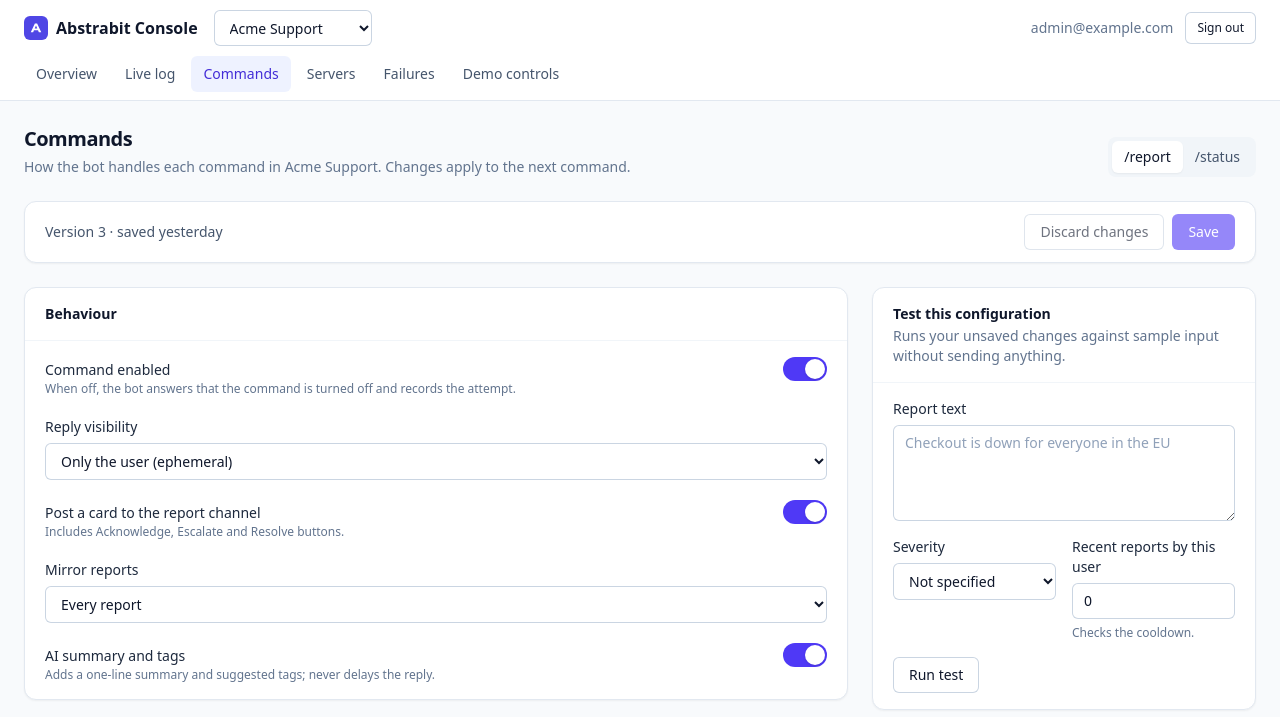
it: command configuration › resolves a version conflict by overwriting with the latest version
What coordinates should you click on to do the following:
click the switch named "Command enabled" in the row of "Command enabled"
I would click on:
 (805, 369)
Its box is top-left (783, 357), bottom-right (827, 381).
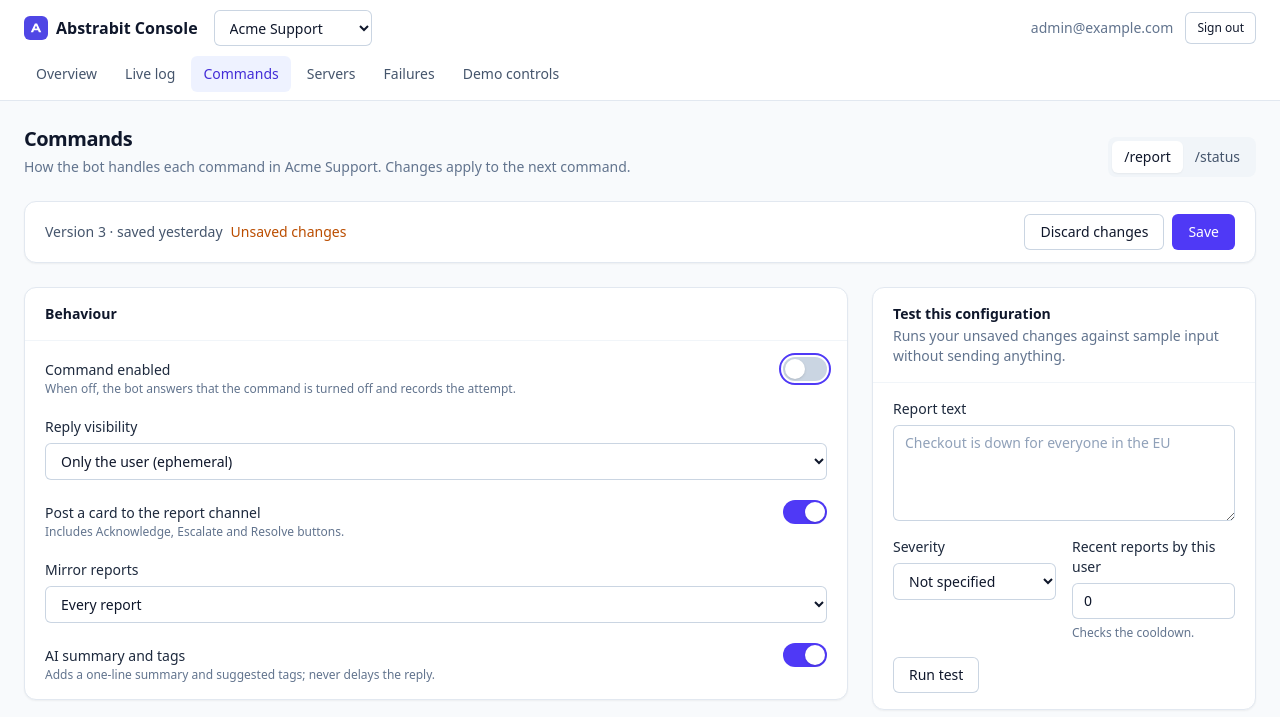
What coordinates should you click on to do the following:
click the button "Save"
I would click on:
 (1204, 232)
Its box is top-left (1172, 214), bottom-right (1235, 250).
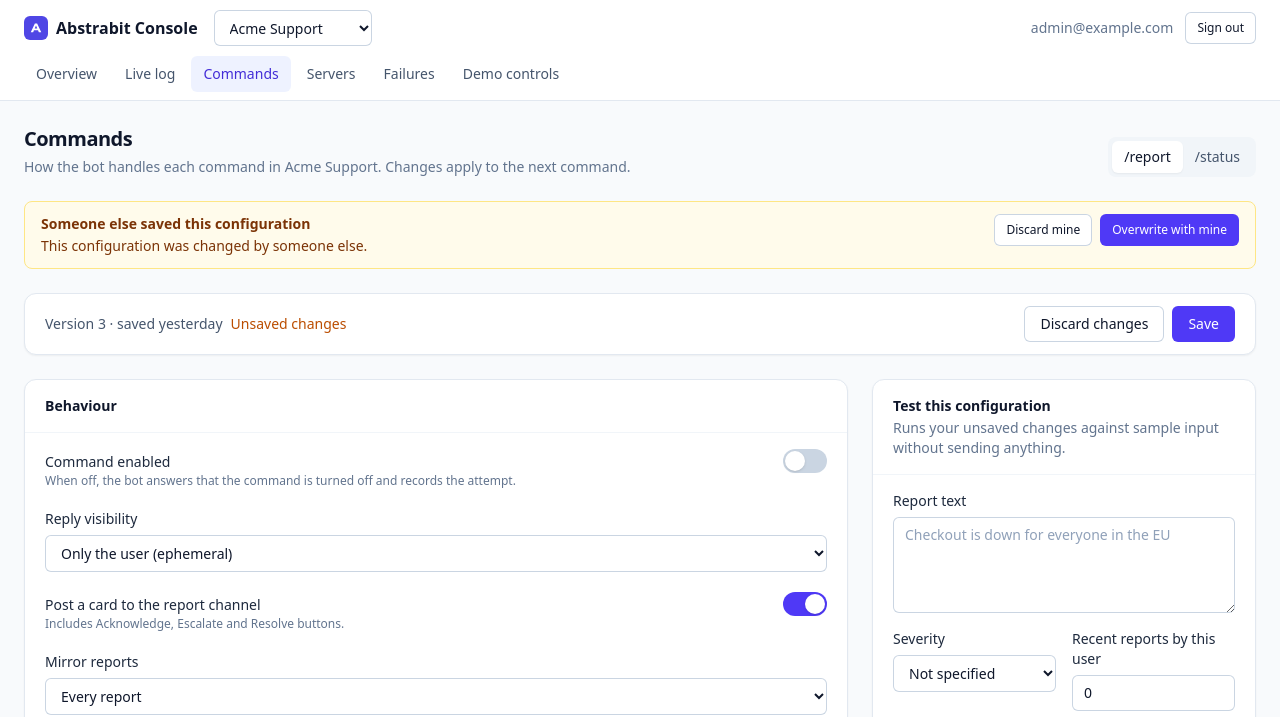
What coordinates should you click on to do the following:
click the button "Overwrite with mine"
I would click on:
 (1170, 230)
Its box is top-left (1100, 214), bottom-right (1239, 246).
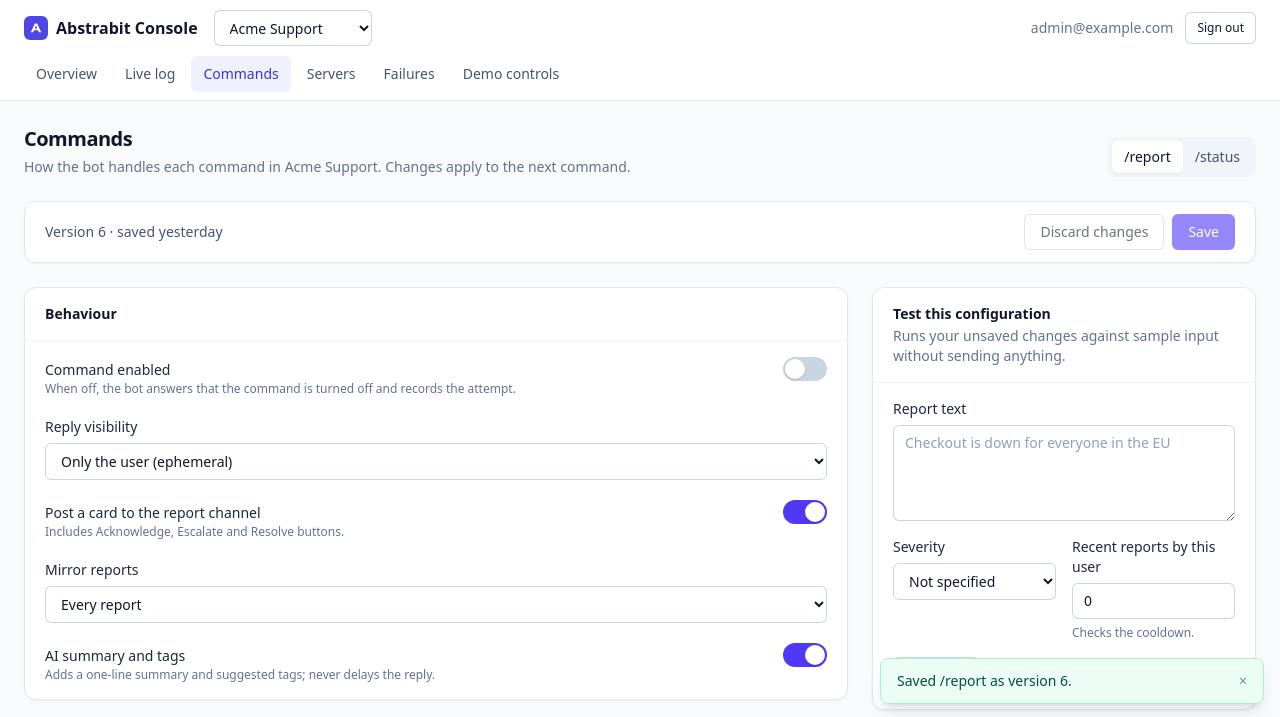
Expected: the text "Saved /report as version 6." is shown, top-left (897, 671), bottom-right (1072, 690)
